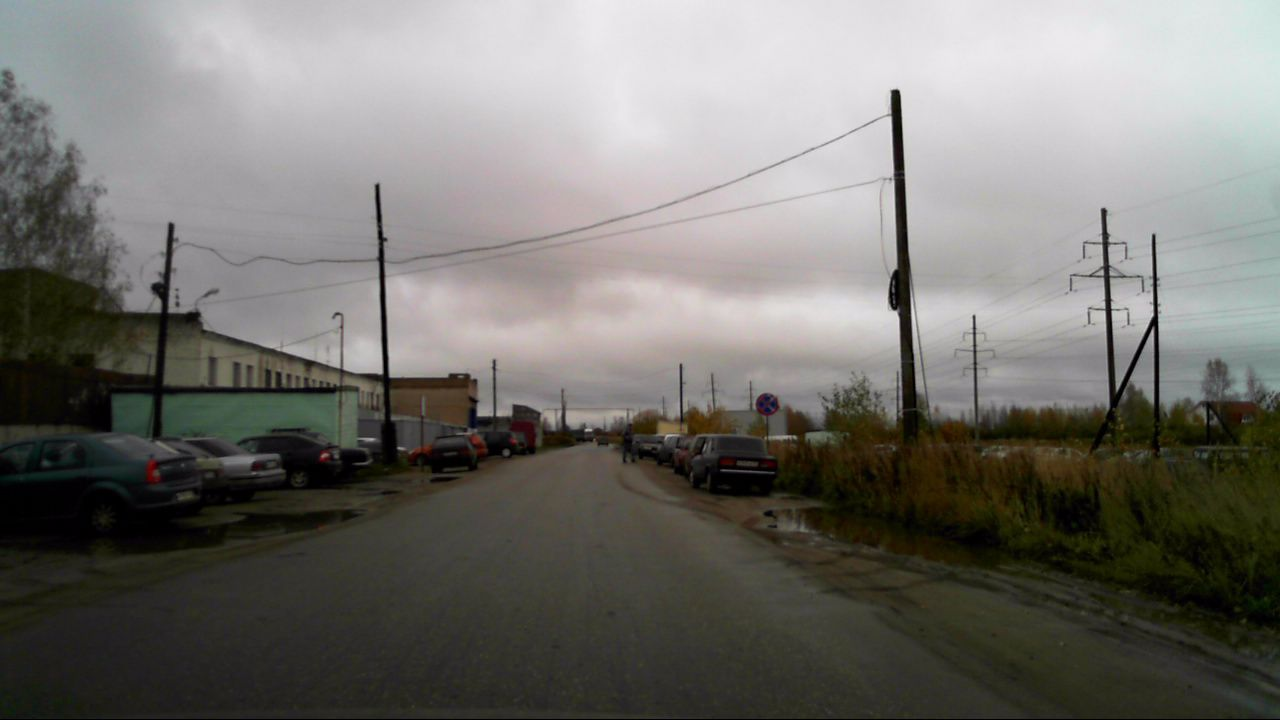No Parking: (755, 392, 779, 416)
